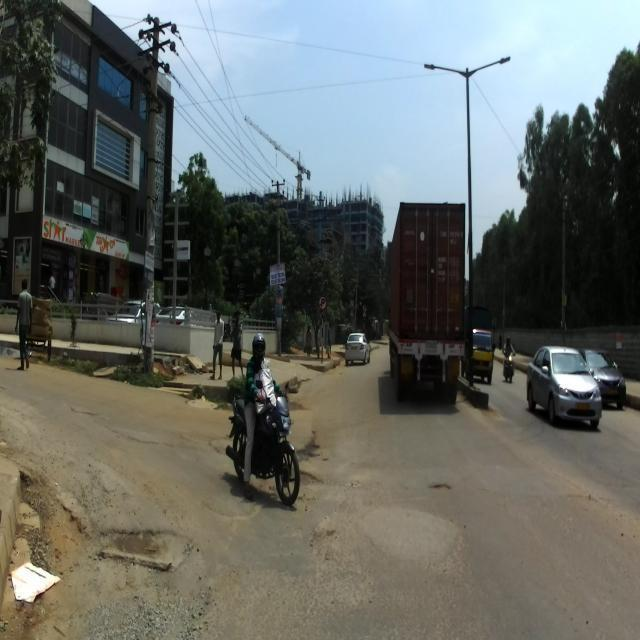Pothole: (79, 513, 203, 585)
